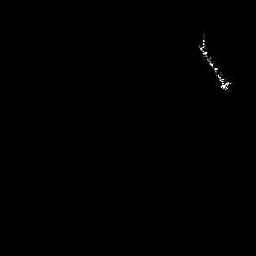ship: (196, 31, 234, 96)
